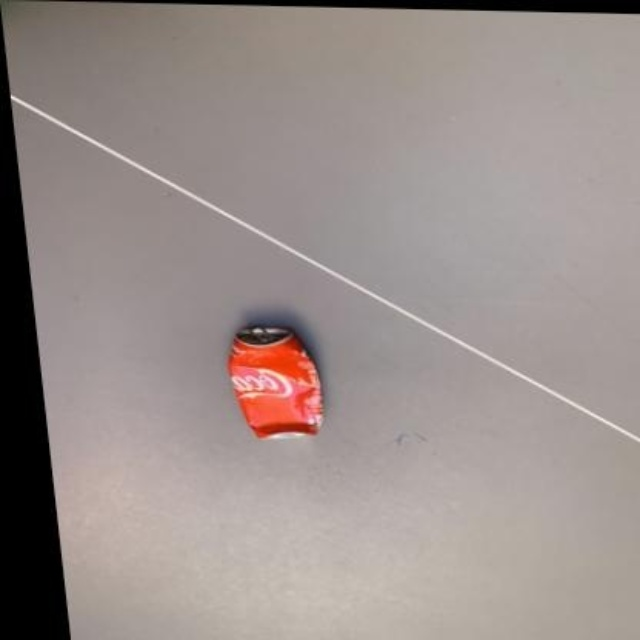trash: (228, 326, 322, 437)
